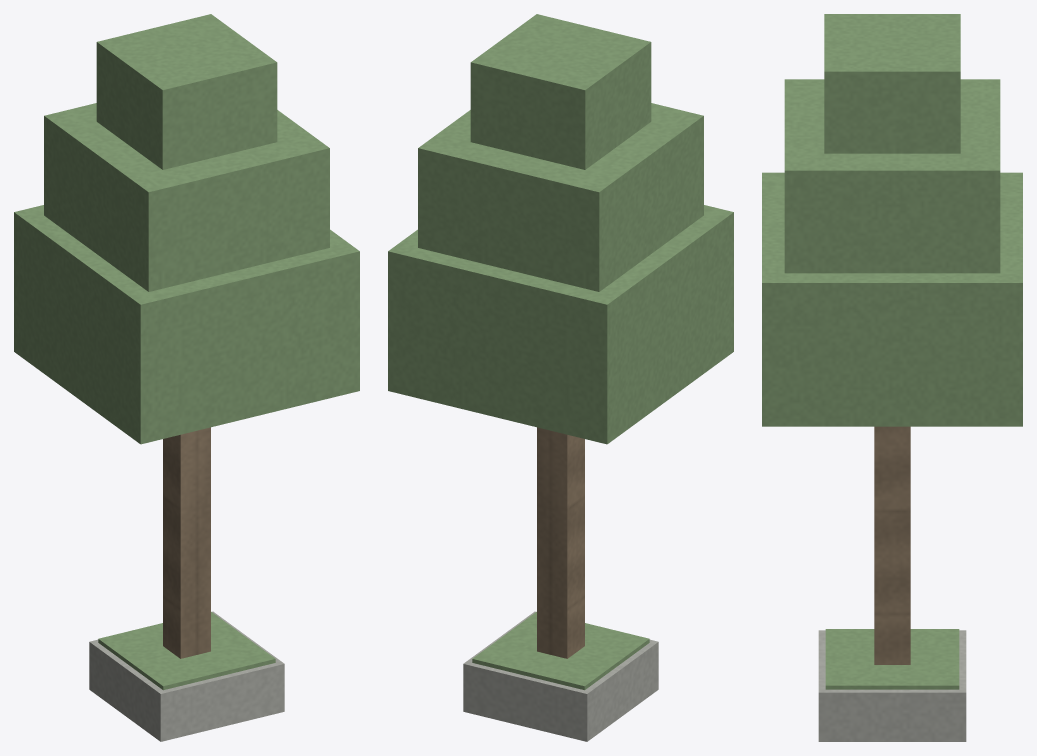
File: city-tree.glb
The picture shows the model from 3 angles, left to right: view 1: azimuth 30°, elevation 25°; view 2: azimuth 150°, elevation 25°; view 3: azimuth 270°, elevation 25°; orthographic projection. The views are drawn at different scales.
Size of the model in its own units: 1.15 by 3.25 by 1.15.
Materials: 3 (3 with a texture image).
